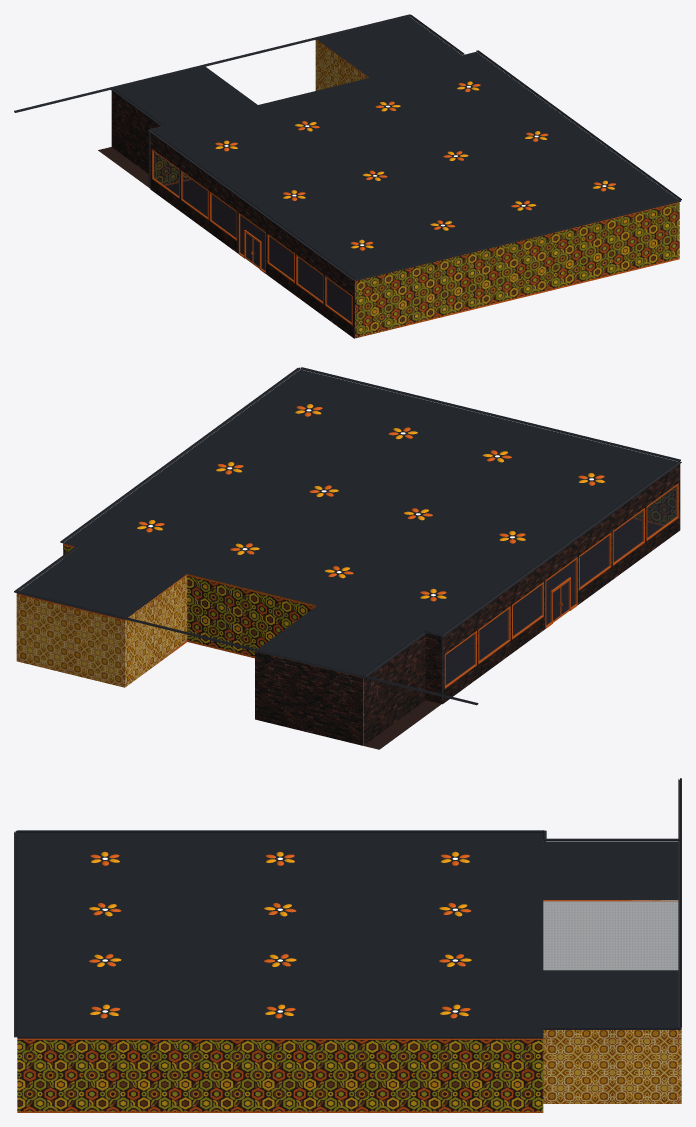
File: existing_shop_v3.glb
3 views of the same model, one above another, from view 1: azimuth 30°, elevation 25°; view 2: azimuth 150°, elevation 25°; view 3: azimuth 270°, elevation 25° (orthographic). The views are drawn at different scales.
Parts seen in each view (by area): view 1: mainRoofDeck, frontWall, WALL__existing_shop_window_wall, brRoofDeck, wcRoofDeck, floor, wcLeftBrickWall, brLeftWall, capMesh.005, gutterOuter.005, glassPane.002, glassPane (+10 smaller); view 2: mainRoofDeck, WALL__existing_shop_window_wall, wcRearBrickWall, brRearWall, brRoofDeck, wcRoofDeck, WALL__existing_shop_partition, floor, brLeftWall, wcLeftBrickWall, storeCornerGapWall, wcOutdoorGapFloor (+11 smaller); view 3: mainRoofDeck, rightWall, brRightWall, wcRightWall, wcRoofDeck, brRoofDeck, capMesh.008, capMesh, gutterOuter.008, rightSkirt, rightCrown, capMesh.002 (+1 smaller).
Part boxes in pixels (bbox=[...]): mainRoofDeck: bbox=[153, 52, 677, 278]; frontWall: bbox=[355, 203, 679, 337]; WALL__existing_shop_window_wall: bbox=[150, 133, 354, 338]; brRoofDeck: bbox=[317, 17, 461, 77]; wcRoofDeck: bbox=[114, 66, 257, 127]; floor: bbox=[166, 180, 351, 321]; wcLeftBrickWall: bbox=[111, 91, 164, 173]; brLeftWall: bbox=[315, 39, 367, 90]; capMesh.005: bbox=[14, 14, 409, 111]; gutterOuter.005: bbox=[15, 15, 409, 112]; glassPane.002: bbox=[211, 194, 236, 238]; glassPane: bbox=[153, 152, 178, 196]; mainRoofDeck: bbox=[63, 369, 677, 634]; WALL__existing_shop_window_wall: bbox=[443, 464, 680, 703]; wcRearBrickWall: bbox=[255, 651, 362, 745]; brRearWall: bbox=[16, 594, 124, 687]; brRoofDeck: bbox=[19, 547, 186, 619]; wcRoofDeck: bbox=[255, 605, 423, 677]; WALL__existing_shop_partition: bbox=[63, 545, 316, 656]; floor: bbox=[446, 519, 661, 684]; brLeftWall: bbox=[125, 575, 187, 687]; wcLeftBrickWall: bbox=[363, 634, 425, 745]; storeCornerGapWall: bbox=[425, 633, 442, 704]; wcOutdoorGapFloor: bbox=[363, 700, 441, 749]; mainRoofDeck: bbox=[17, 832, 543, 1035]; rightWall: bbox=[17, 1038, 543, 1112]; brRightWall: bbox=[543, 1030, 681, 1103]; wcRightWall: bbox=[543, 900, 678, 970]; wcRoofDeck: bbox=[543, 841, 678, 899]; brRoofDeck: bbox=[543, 970, 678, 1026]; capMesh.008: bbox=[17, 1035, 543, 1037]; capMesh: bbox=[17, 830, 543, 832]; gutterOuter.008: bbox=[17, 1037, 543, 1038]; rightSkirt: bbox=[17, 1111, 542, 1112]; rightCrown: bbox=[18, 1038, 540, 1039]; capMesh.002: bbox=[15, 830, 17, 1036].
Size of what is drawn, in the model's own units: 88.48 by 12.35 by 96.53.
23 materials, 13 textured.
